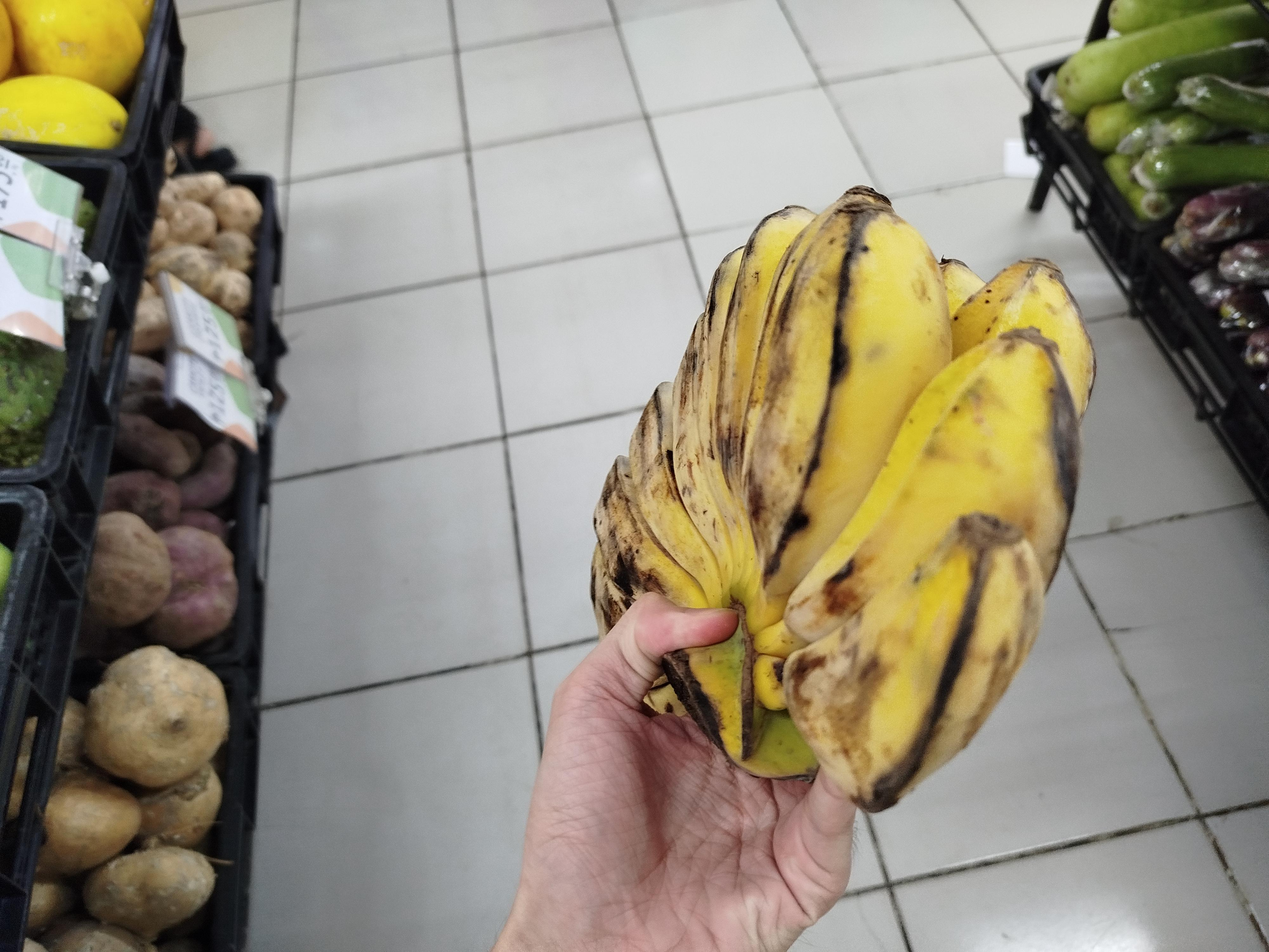ripe: (592, 187, 1094, 811)
